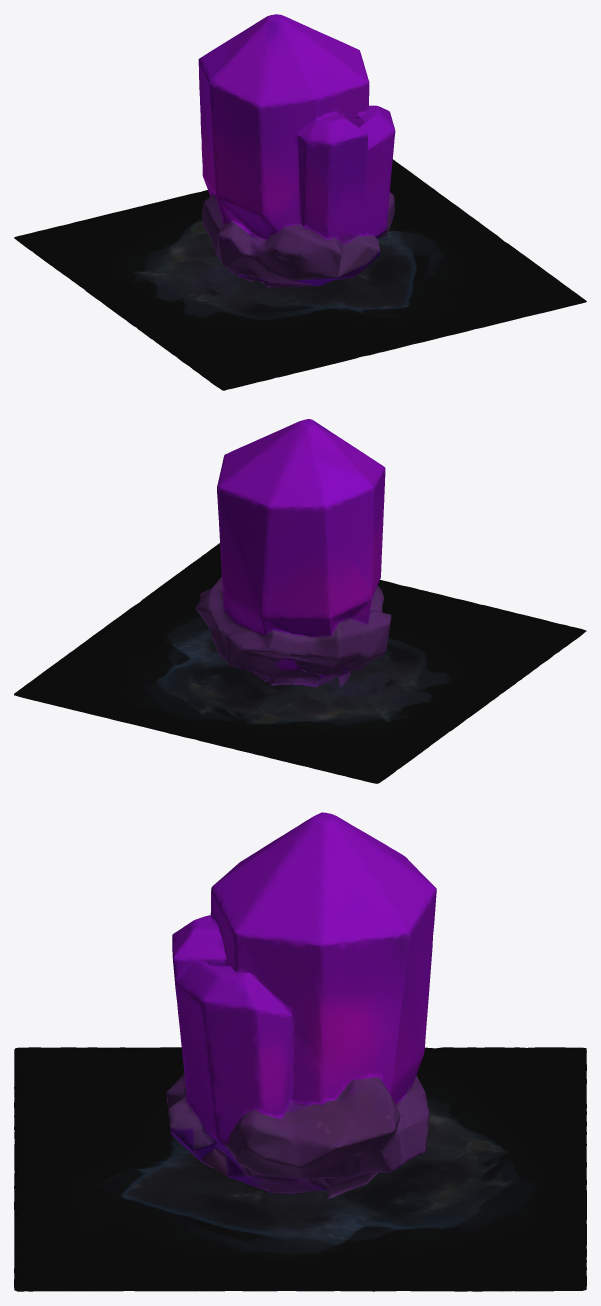
File: rift_shard_t1.glb
The picture shows the model from 3 angles, top to bottom: view 1: azimuth 30°, elevation 25°; view 2: azimuth 150°, elevation 25°; view 3: azimuth 270°, elevation 25°; orthographic projection. The views are drawn at different scales.
Visible parts, largest first — view 1: geometry_0; view 2: geometry_0; view 3: geometry_0.
Part boxes in pixels (bbox=[...]): geometry_0: bbox=[14, 14, 586, 390]; geometry_0: bbox=[14, 419, 586, 783]; geometry_0: bbox=[14, 812, 586, 1291].
Size of the model in its own units: 1 by 0.6559 by 0.9956.
1 material, 1 textured.
